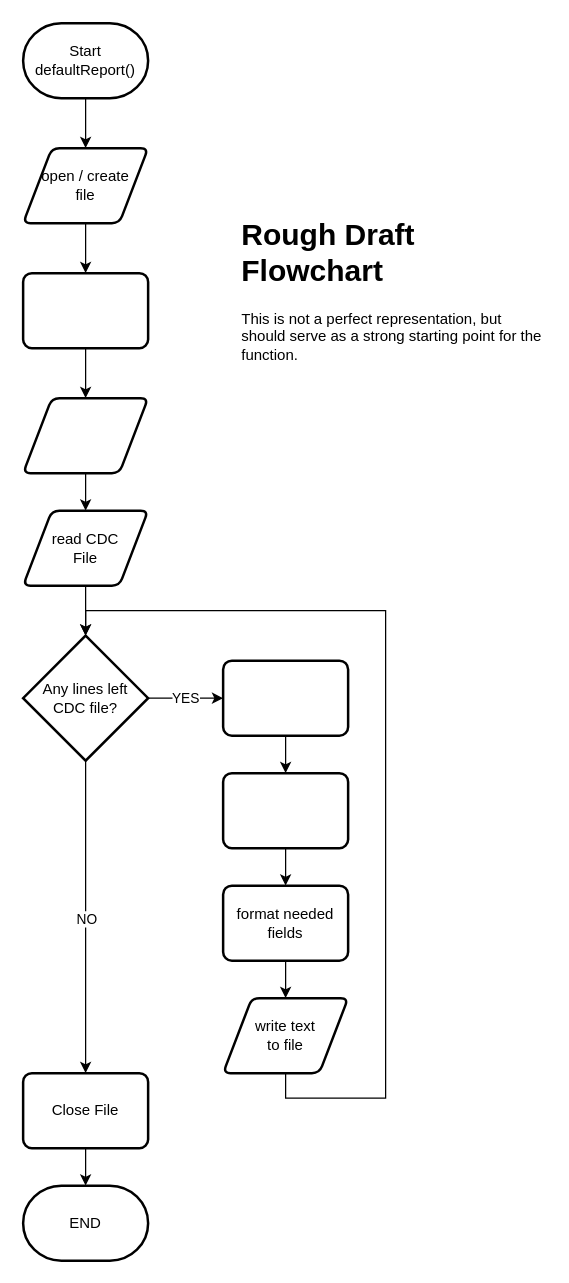
Some shapes in this 569 by 1283 pixel diagram are drawn without their labels. The shapes that lost their labels are listed below. From the top down, each one's centre as x and y in pixels, then its label:
the point at 85,310: Set report run Time
the point at 85,435: write headers to file
the point at 285,697: Remove any unprintable characters
the point at 285,810: Break string into a list
